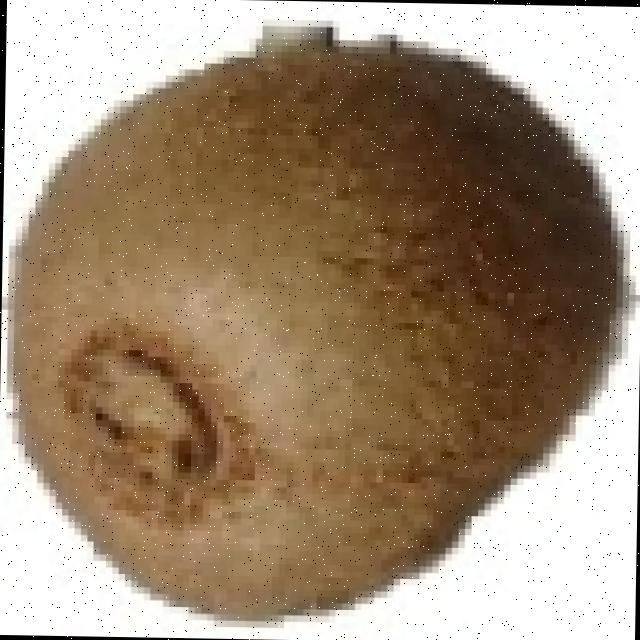kiwi: (0, 38, 615, 626)
